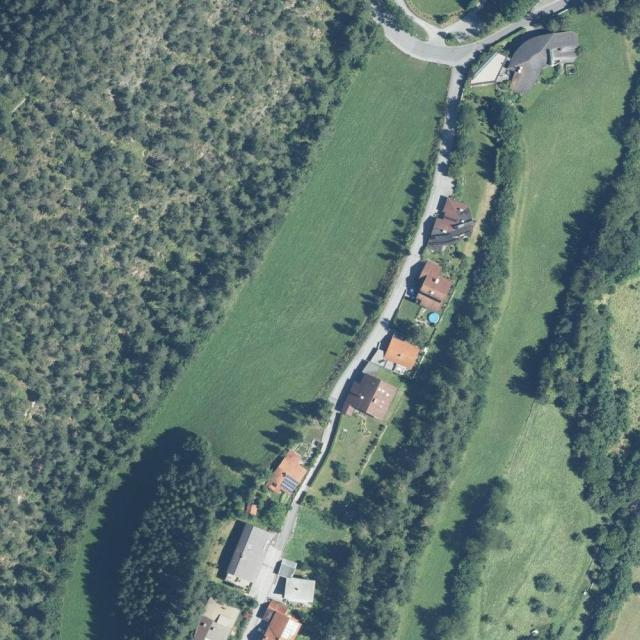building: (494, 16, 589, 98), (425, 195, 481, 261), (223, 523, 275, 592), (340, 369, 399, 428), (408, 259, 457, 314), (264, 449, 313, 501), (468, 49, 513, 95), (262, 600, 303, 639), (382, 336, 422, 372), (262, 608, 304, 640), (282, 577, 316, 607), (277, 559, 298, 580)
greenland: (146, 32, 493, 500), (465, 7, 640, 482), (462, 397, 627, 640), (196, 369, 336, 542), (411, 436, 507, 541), (394, 533, 462, 640), (434, 0, 540, 53), (443, 99, 483, 200), (365, 0, 431, 54)
metalled_road: (360, 65, 491, 362), (325, 224, 440, 413), (273, 453, 324, 552), (380, 26, 487, 71), (421, 169, 456, 225), (411, 7, 450, 52), (330, 351, 365, 394), (482, 15, 529, 47), (317, 408, 342, 456), (442, 18, 472, 34), (447, 66, 460, 100), (319, 420, 335, 444)
